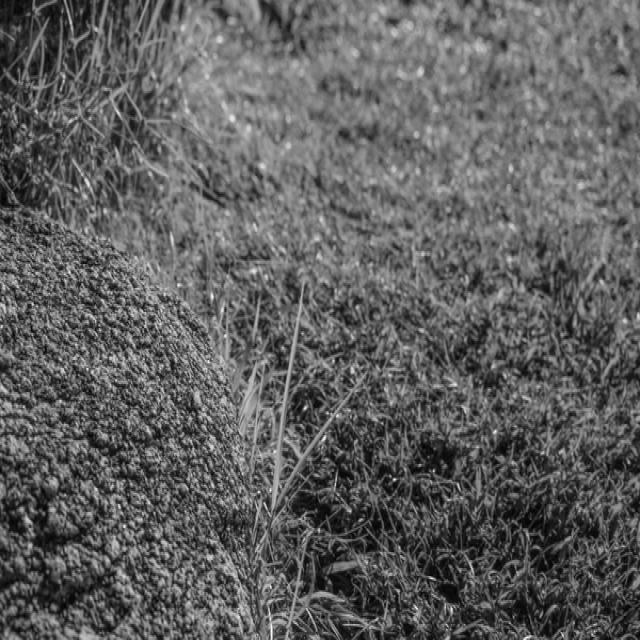Stone: (0, 208, 254, 639)
